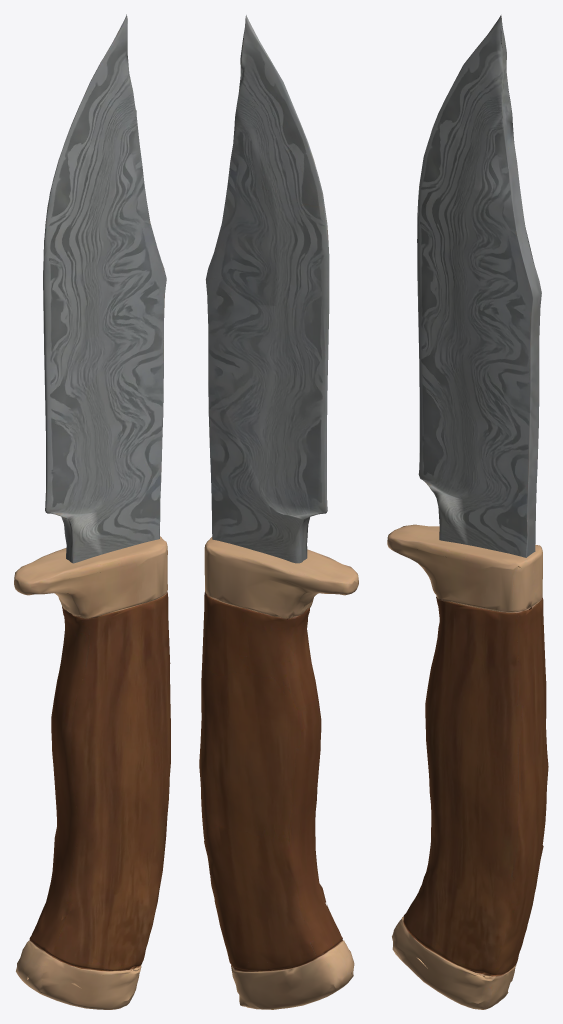
The model's file is damascus.glb.
3 views of the same model, side by side, from view 1: azimuth 30°, elevation 25°; view 2: azimuth 150°, elevation 25°; view 3: azimuth 330°, elevation 25° (orthographic).
Visible parts, largest first — view 1: geometry_0; view 2: geometry_0; view 3: geometry_0.
Part boxes in pixels (x1,y1,x2,y2): geometry_0: (14,14,170,1009); geometry_0: (199,15,358,1009); geometry_0: (387,15,548,1009).
Bounding box in the file's own units: 0.147 × 0.9497 × 0.063.
1 material, 1 textured.
